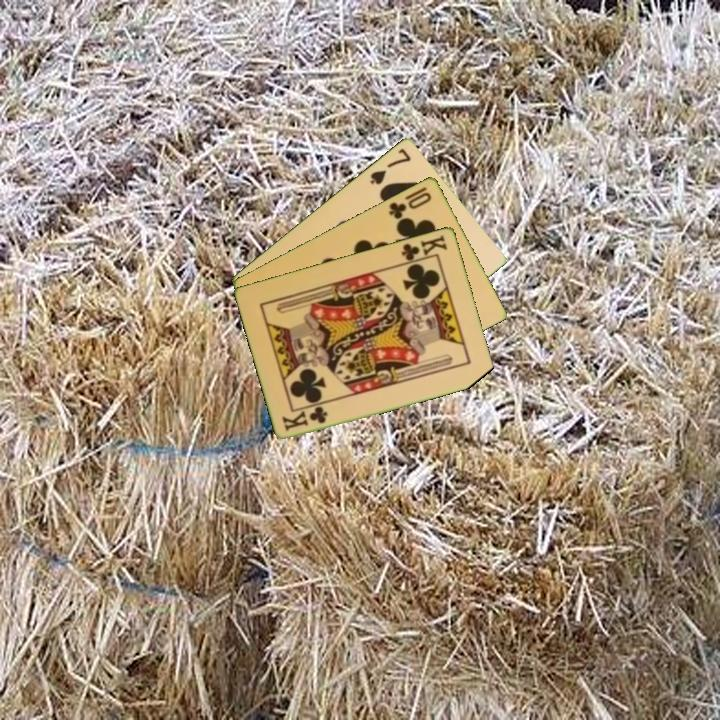10c: (385, 188, 434, 222)
7s: (366, 144, 414, 187)
Kc: (398, 231, 451, 266), (279, 403, 331, 434)
